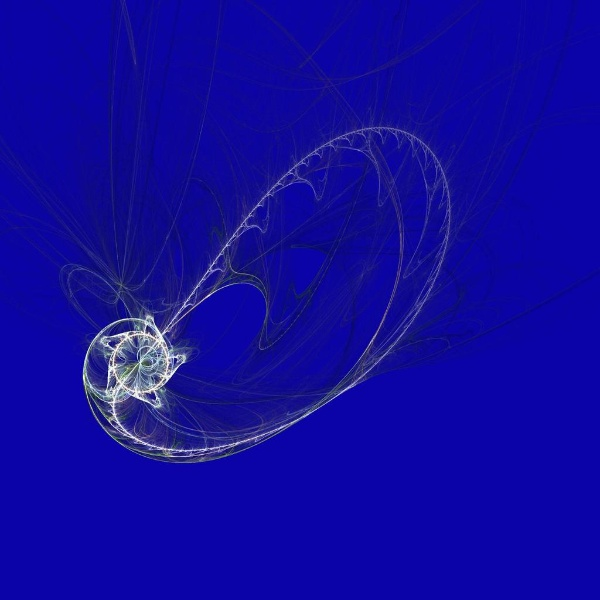Jellyfish: (0, 0, 598, 463)
